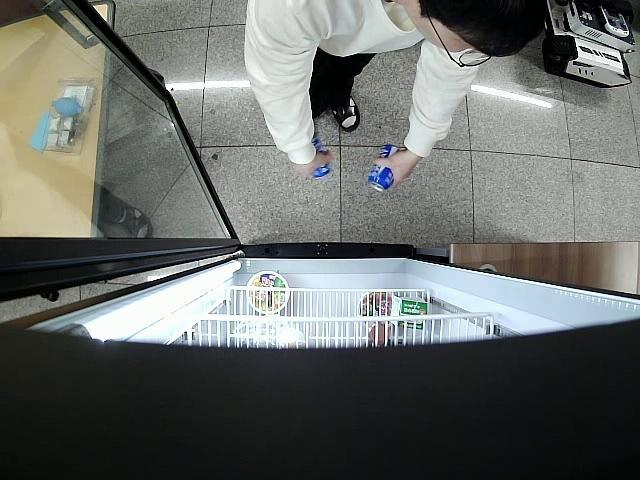13_pocariSweat: (367, 142, 405, 192), (312, 135, 332, 182)
